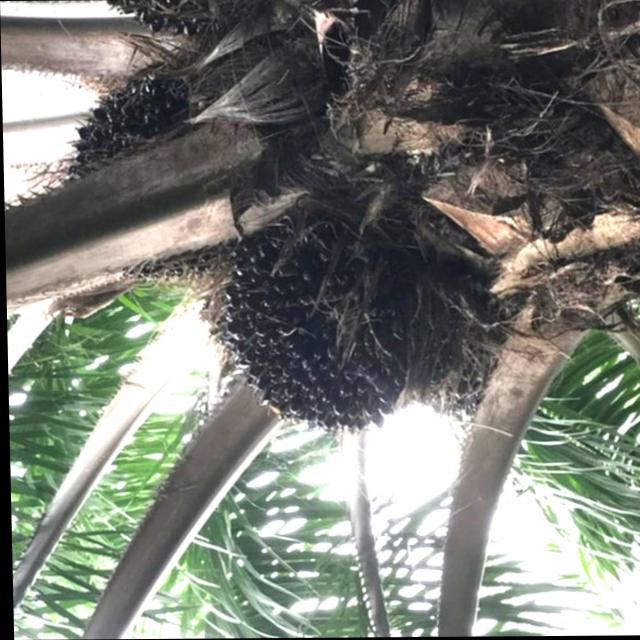almost: (198, 200, 424, 449)
